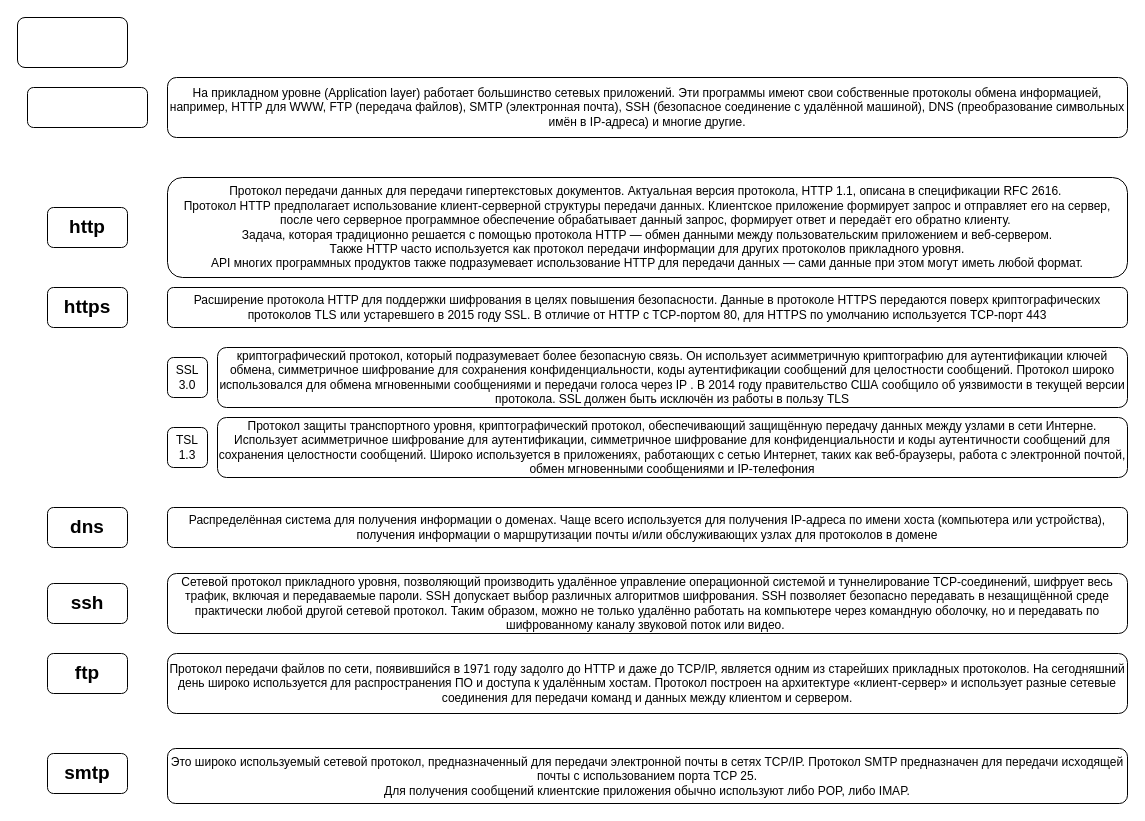
This 1145x821 diagram has some shape labels left out. The shapes that lost their labels are listed below. From the top down, each one's centre as x and y in pixels, then its label:
the point at 72,42: Networks
the point at 87,107: application
